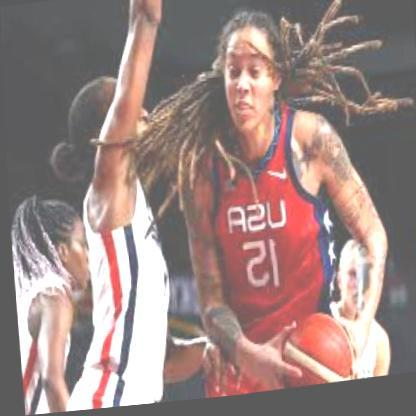basketball: (274, 315, 352, 392)
